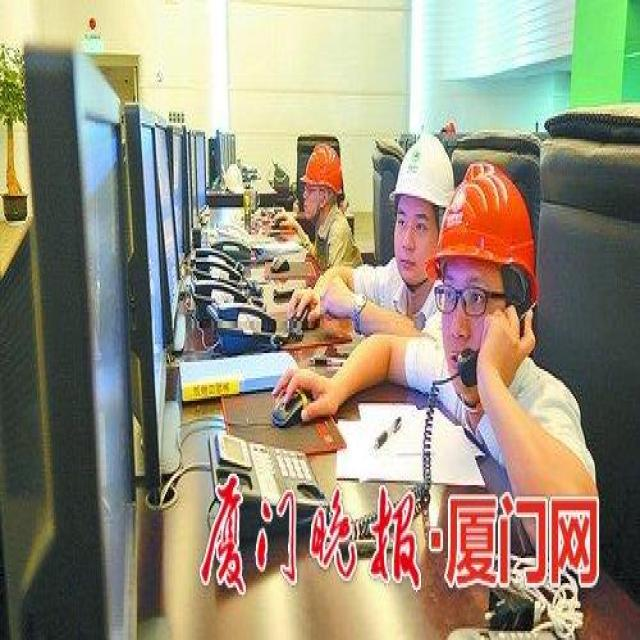helmet: (434, 153, 540, 403), (390, 130, 456, 287), (297, 137, 343, 221)
